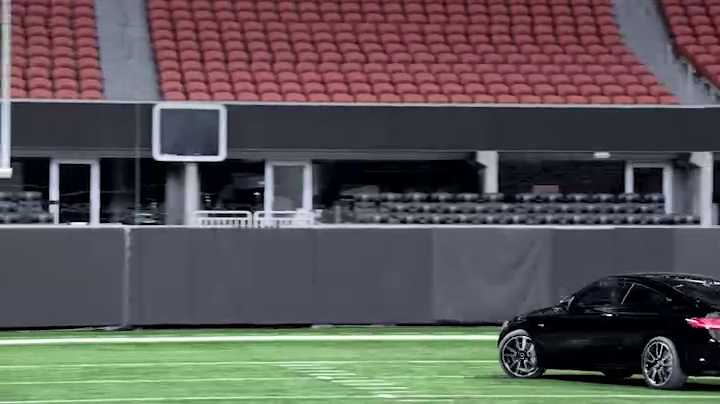amg: (494, 272, 720, 389)
